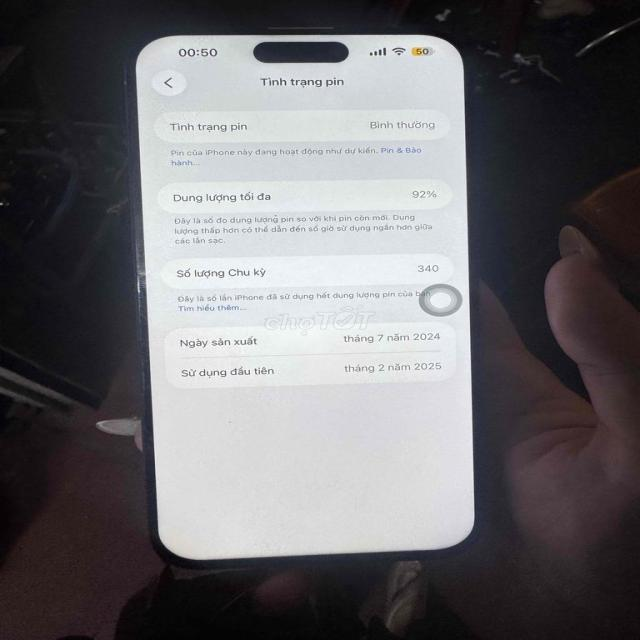gen_15: (122, 16, 490, 567)
